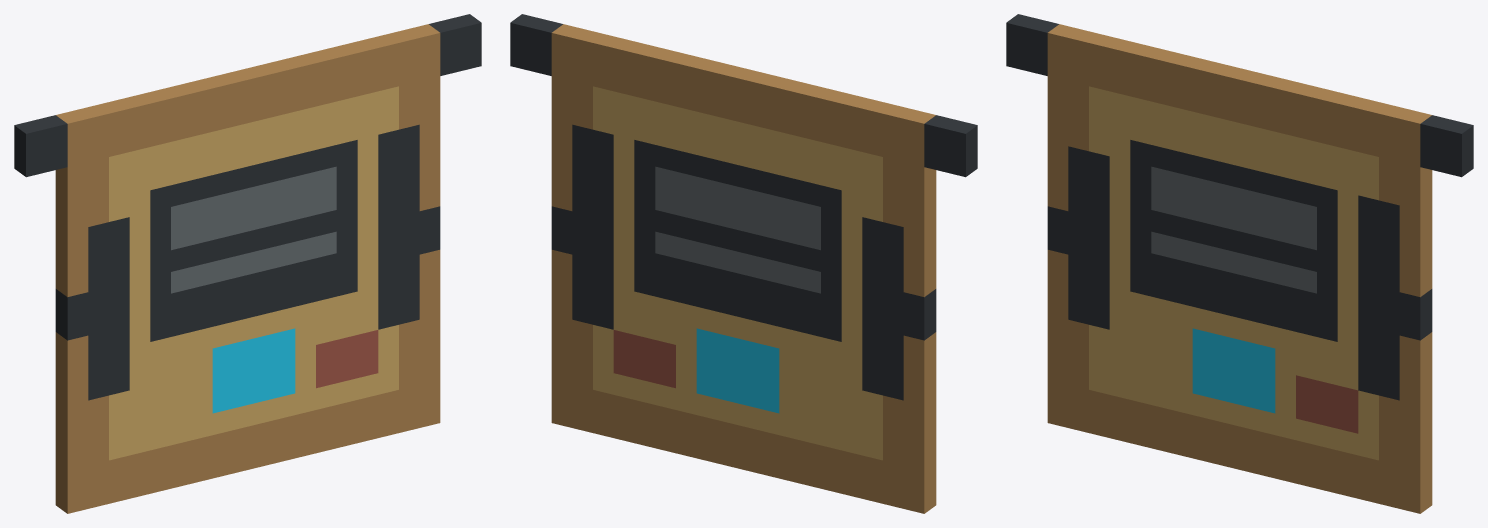
The model's file is pixel_service_terminal_vengi_plane.glb.
3 views of the same model, side by side, from view 1: azimuth 30°, elevation 25°; view 2: azimuth 150°, elevation 25°; view 3: azimuth 330°, elevation 25° (orthographic).
Parts seen in each view (by area): view 1: pixel_service_terminal_front_24x24; view 2: pixel_service_terminal_front_24x24; view 3: pixel_service_terminal_front_24x24.
Part boxes in pixels (bbox=[...]): pixel_service_terminal_front_24x24: bbox=[14, 14, 481, 513]; pixel_service_terminal_front_24x24: bbox=[510, 14, 977, 513]; pixel_service_terminal_front_24x24: bbox=[1006, 14, 1473, 513].
Bounding box in the file's own units: 22 × 18 × 1.
6 materials, 6 textured.
